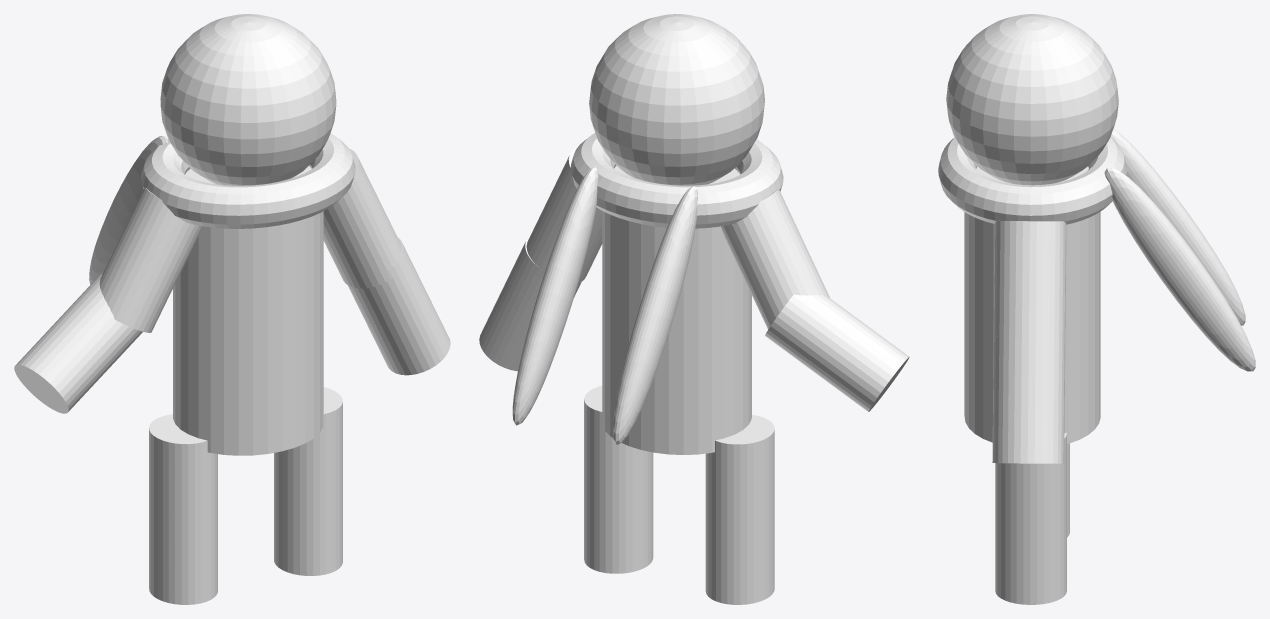
The model's file is hito.obj.
3 renders of one model, left to right at view 1: azimuth 30°, elevation 25°; view 2: azimuth 150°, elevation 25°; view 3: azimuth 270°, elevation 25°, orthographic. The views are drawn at different scales.
Parts seen in each view (by area): view 1: 円柱, 球_球.001, トーラス, 円柱.009_円柱.011, 円柱.002, 円柱.011_円柱.013, 円柱.008_円柱.009, 円柱.010_円柱.012, 円柱.006, 円柱.004_円柱.008, 円柱.003, 立方体.001_立方体.002; view 2: 円柱, 球_球.001, トーラス, 円柱.002, 立方体.001_立方体.002, 立方体_立方体.001, 円柱.009_円柱.011, 円柱.008_円柱.009, 円柱.004_円柱.008, 円柱.006, 円柱.003, 円柱.011_円柱.013 (+1 smaller); view 3: 球_球.001, 円柱, 円柱.011_円柱.013, 立方体_立方体.001, 円柱.010_円柱.012, トーラス, 円柱.006, 円柱.003, 立方体.001_立方体.002.
Boxes of the visible parts, x1,y1,x2,y2 form: 円柱: (173,166,323,455); 球_球.001: (160,14,336,185); トーラス: (141,133,355,228); 円柱.009_円柱.011: (99,187,201,332); 円柱.002: (14,274,142,413); 円柱.011_円柱.013: (347,237,450,375); 円柱.008_円柱.009: (149,414,217,525); 円柱.010_円柱.012: (323,148,401,288); 円柱.006: (274,481,342,575); 円柱.004_円柱.008: (149,509,217,604); 円柱.003: (274,387,342,496); 立方体.001_立方体.002: (89,136,168,284); 円柱: (602,165,751,454); 球_球.001: (589,14,764,185); トーラス: (570,133,783,228); 円柱.002: (765,294,909,411); 立方体.001_立方体.002: (613,186,697,444); 立方体_立方体.001: (512,167,598,425); 円柱.009_円柱.011: (721,189,829,329); 円柱.008_円柱.009: (705,415,774,525); 円柱.004_円柱.008: (705,509,774,604); 円柱.006: (584,479,653,573); 円柱.003: (584,385,653,494); 円柱.011_円柱.013: (479,235,581,371); 球_球.001: (946,14,1118,185); 円柱: (964,166,1100,443); 円柱.011_円柱.013: (992,336,1065,463); 立方体_立方体.001: (1104,167,1255,371); 円柱.010_円柱.012: (993,220,1066,337); トーラス: (938,137,1126,224); 円柱.006: (995,512,1066,604); 円柱.003: (995,433,1066,525); 立方体.001_立方体.002: (1111,129,1245,325).
Bounding box in the file's own units: 5.5 × 6.91 × 3.68.
Materials: 1 (1 with a texture image).
